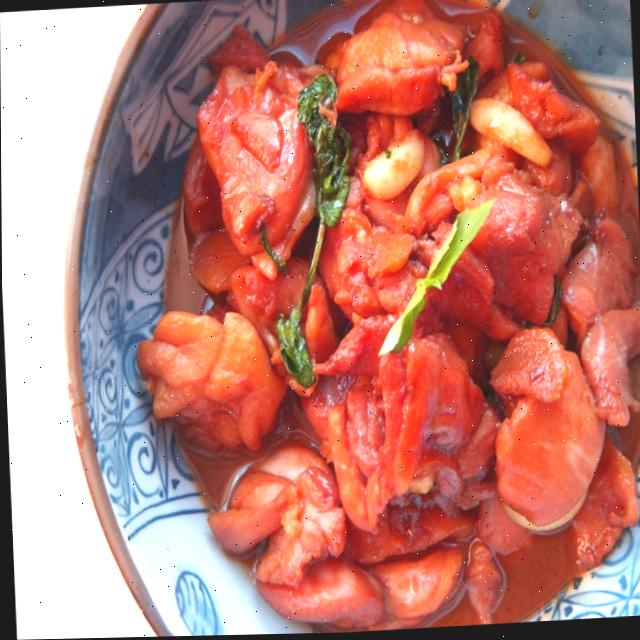鸡肉料理 含炸鸡: (51, 6, 640, 639)
